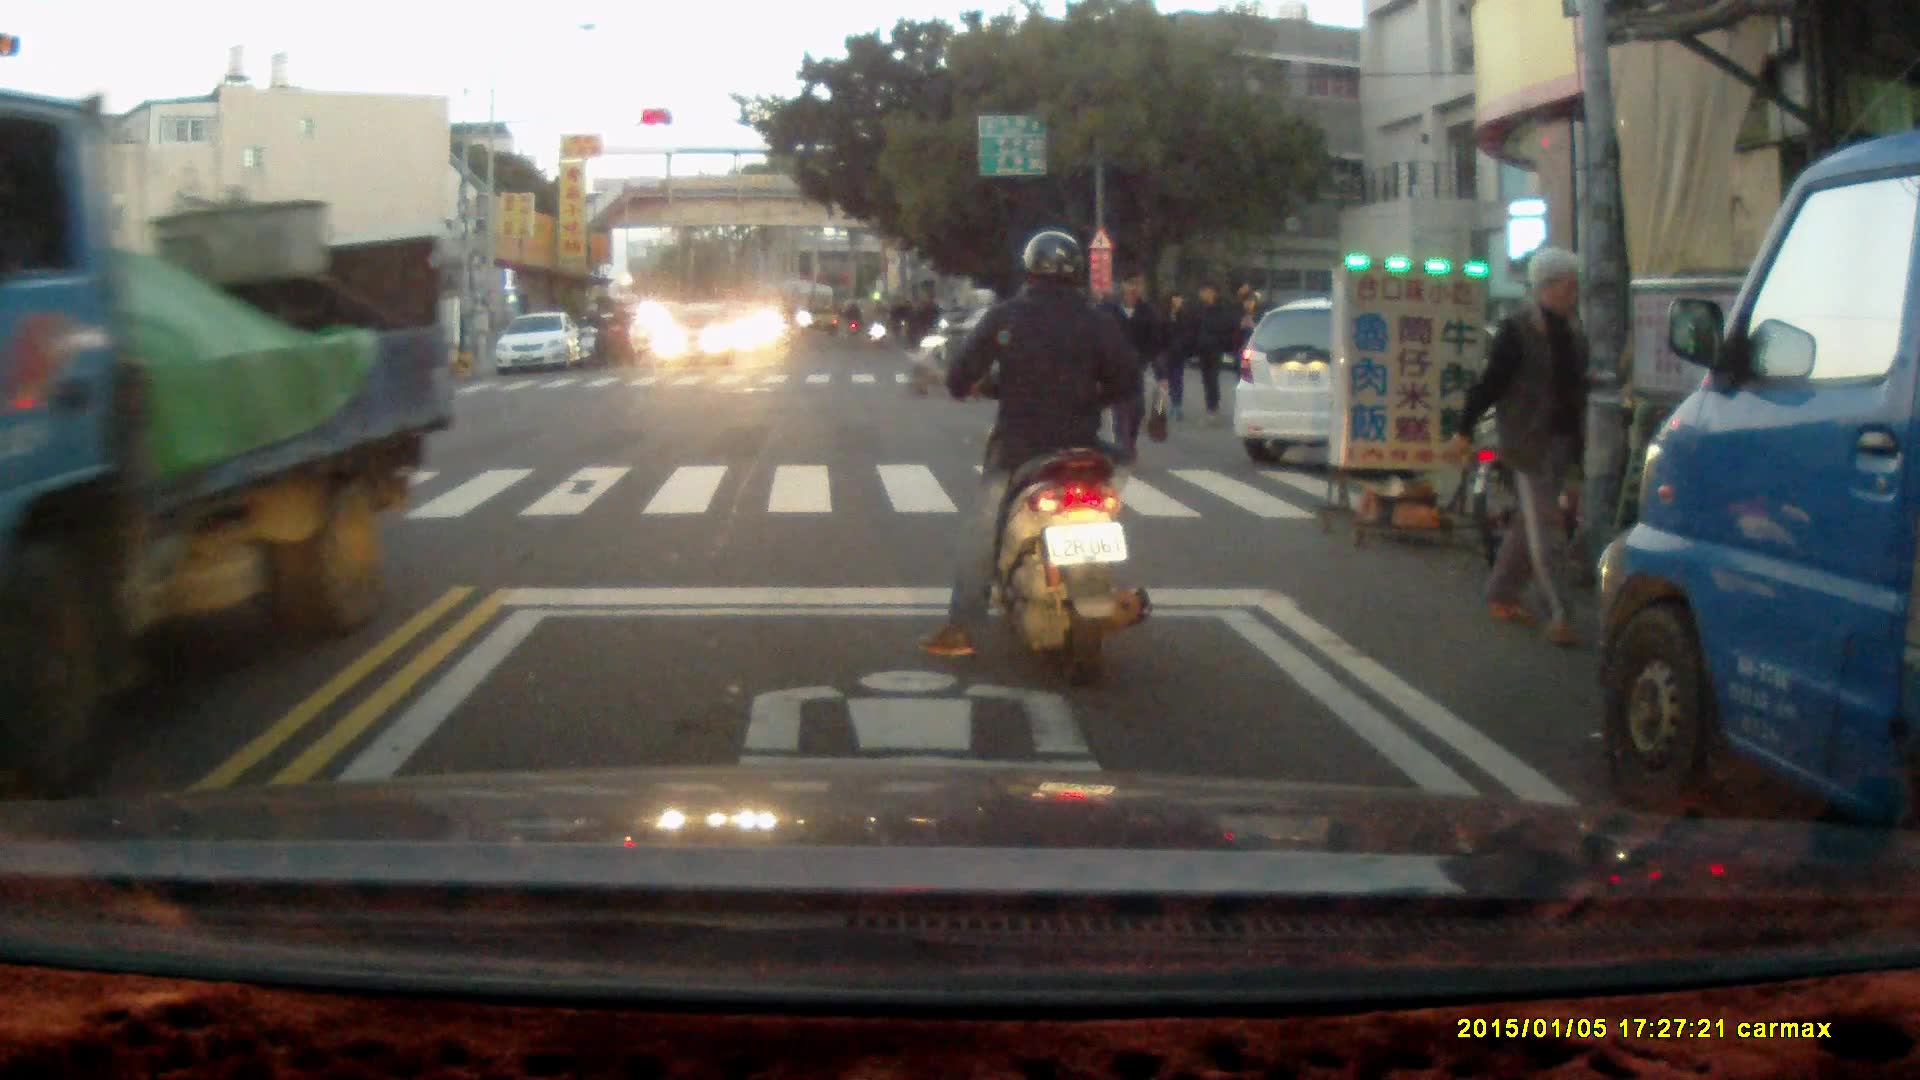pedestrian: (1464, 241, 1599, 640), (1090, 264, 1170, 474), (1187, 280, 1230, 427), (1155, 283, 1194, 424), (1231, 292, 1267, 401)
rider: (917, 229, 1151, 692), (905, 284, 1011, 403), (577, 301, 612, 372), (601, 296, 636, 366), (862, 295, 890, 348)
vehicle: (1, 100, 456, 787), (1596, 120, 1920, 901), (1233, 303, 1533, 462), (493, 311, 584, 378), (657, 299, 743, 367)
